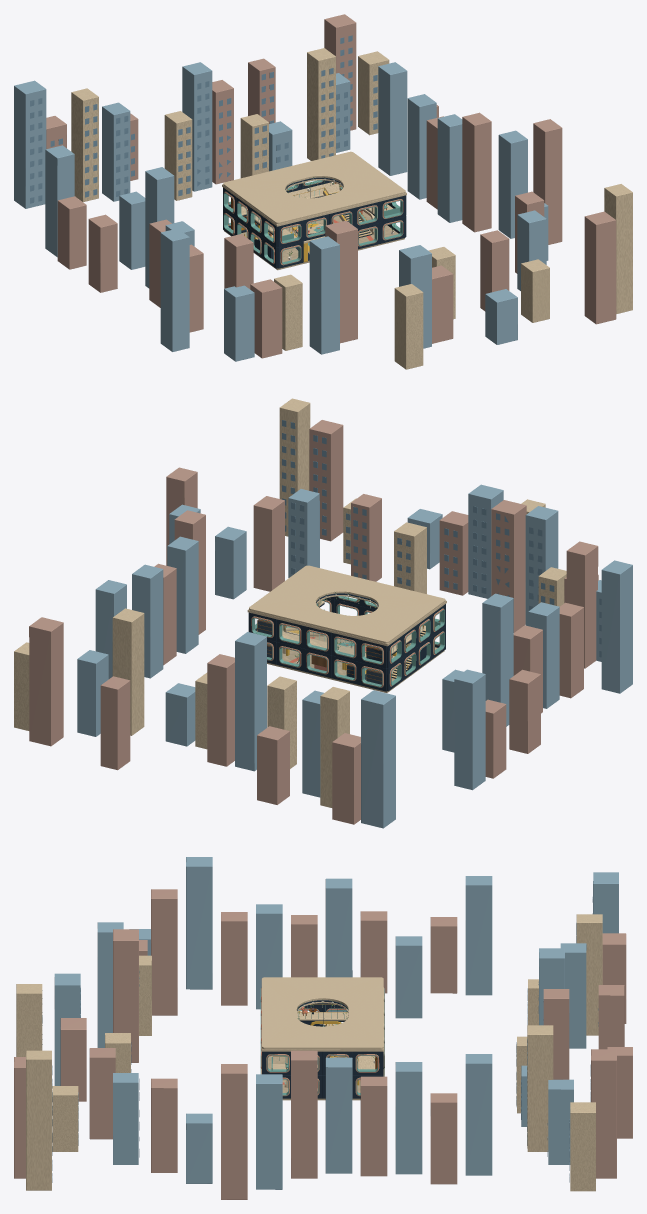
File: atrium-mobile.glb
3 renders of one model, top to bottom at view 1: azimuth 30°, elevation 25°; view 2: azimuth 150°, elevation 25°; view 3: azimuth 270°, elevation 25°, orthographic. The views are drawn at different scales.
Visible parts, largest first — view 1: Atrium_CityBlue_north, Atrium_CityBlue_south, Atrium_CityRose_south, Atrium_Ivory_north, Atrium_Ivory_interior, Atrium_Ivory_south, Atrium_CityRose_north, Atrium_CityBlue_east, Atrium_CityRose_east, Atrium_CityWindow_north, Atrium_CityRose_west, Atrium_CityBlue_west (+4 smaller); view 2: Atrium_CityBlue_north, Atrium_CityRose_south, Atrium_CityRose_north, Atrium_CityBlue_south, Atrium_Ivory_interior, Atrium_Ivory_north, Atrium_CityBlue_west, Atrium_Ivory_south, Atrium_CityRose_west, Atrium_CityBlue_east, Atrium_Navy_interior, Atrium_CityRose_east (+5 smaller); view 3: Atrium_CityRose_south, Atrium_CityRose_north, Atrium_CityBlue_north, Atrium_CityBlue_south, Atrium_CityRose_east, Atrium_CityBlue_east, Atrium_Ivory_interior, Atrium_Ivory_south, Atrium_Ivory_north, Atrium_CityBlue_west, Atrium_CityRose_west, Atrium_Navy_interior (+2 smaller).
Boxes of the visible parts, <box> form: Atrium_CityBlue_north: <box>14,62,407,257</box>; Atrium_CityBlue_south: <box>160,203,548,361</box>; Atrium_CityRose_south: <box>224,191,616,358</box>; Atrium_Ivory_north: <box>71,48,389,202</box>; Atrium_Ivory_interior: <box>222,151,406,265</box>; Atrium_Ivory_south: <box>274,184,632,369</box>; Atrium_CityRose_north: <box>46,14,438,269</box>; Atrium_CityBlue_east: <box>407,94,527,238</box>; Atrium_CityRose_east: <box>426,112,562,244</box>; Atrium_CityWindow_north: <box>30,35,377,203</box>; Atrium_CityRose_west: <box>88,214,203,332</box>; Atrium_CityBlue_west: <box>119,167,194,288</box>; Atrium_CityBlue_north: <box>77,580,485,828</box>; Atrium_CityRose_south: <box>253,420,598,668</box>; Atrium_CityRose_north: <box>29,617,506,824</box>; Atrium_CityBlue_south: <box>215,484,632,693</box>; Atrium_Ivory_interior: <box>247,565,446,687</box>; Atrium_Ivory_north: <box>14,608,349,807</box>; Atrium_CityBlue_west: <box>442,593,559,752</box>; Atrium_Ivory_south: <box>279,398,566,606</box>; Atrium_CityRose_west: <box>509,602,583,753</box>; Atrium_CityBlue_east: <box>132,504,200,678</box>; Atrium_Navy_interior: <box>248,593,445,691</box>; Atrium_CityRose_east: <box>154,467,205,665</box>; Atrium_CityRose_south: <box>14,889,177,1178</box>; Atrium_CityRose_north: <box>430,917,632,1184</box>; Atrium_CityBlue_north: <box>465,872,618,1175</box>; Atrium_CityBlue_south: <box>54,857,212,1183</box>; Atrium_CityRose_east: <box>221,1050,387,1199</box>; Atrium_CityBlue_east: <box>256,1057,422,1189</box>; Atrium_Ivory_interior: <box>261,977,383,1096</box>; Atrium_Ivory_south: <box>16,955,151,1190</box>; Atrium_Ivory_north: <box>516,914,602,1191</box>; Atrium_CityBlue_west: <box>256,878,422,1018</box>; Atrium_CityRose_west: <box>221,911,387,1005</box>; Atrium_Navy_interior: <box>262,1000,383,1098</box>.
Size of the model in its own units: 69.93 by 19.44 by 83.24.
18 materials, 4 textured.
